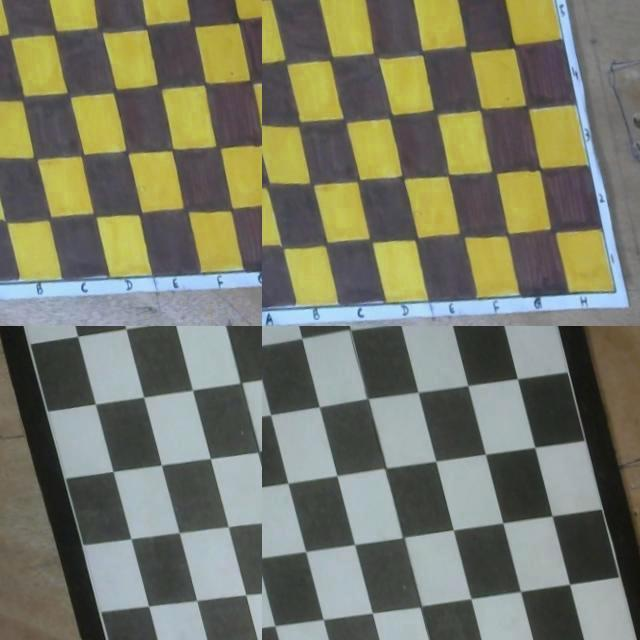chess-table-corners: (610, 272, 616, 280), (262, 299, 266, 308), (0, 274, 3, 283), (510, 0, 516, 2), (529, 326, 536, 327), (234, 0, 240, 1)
